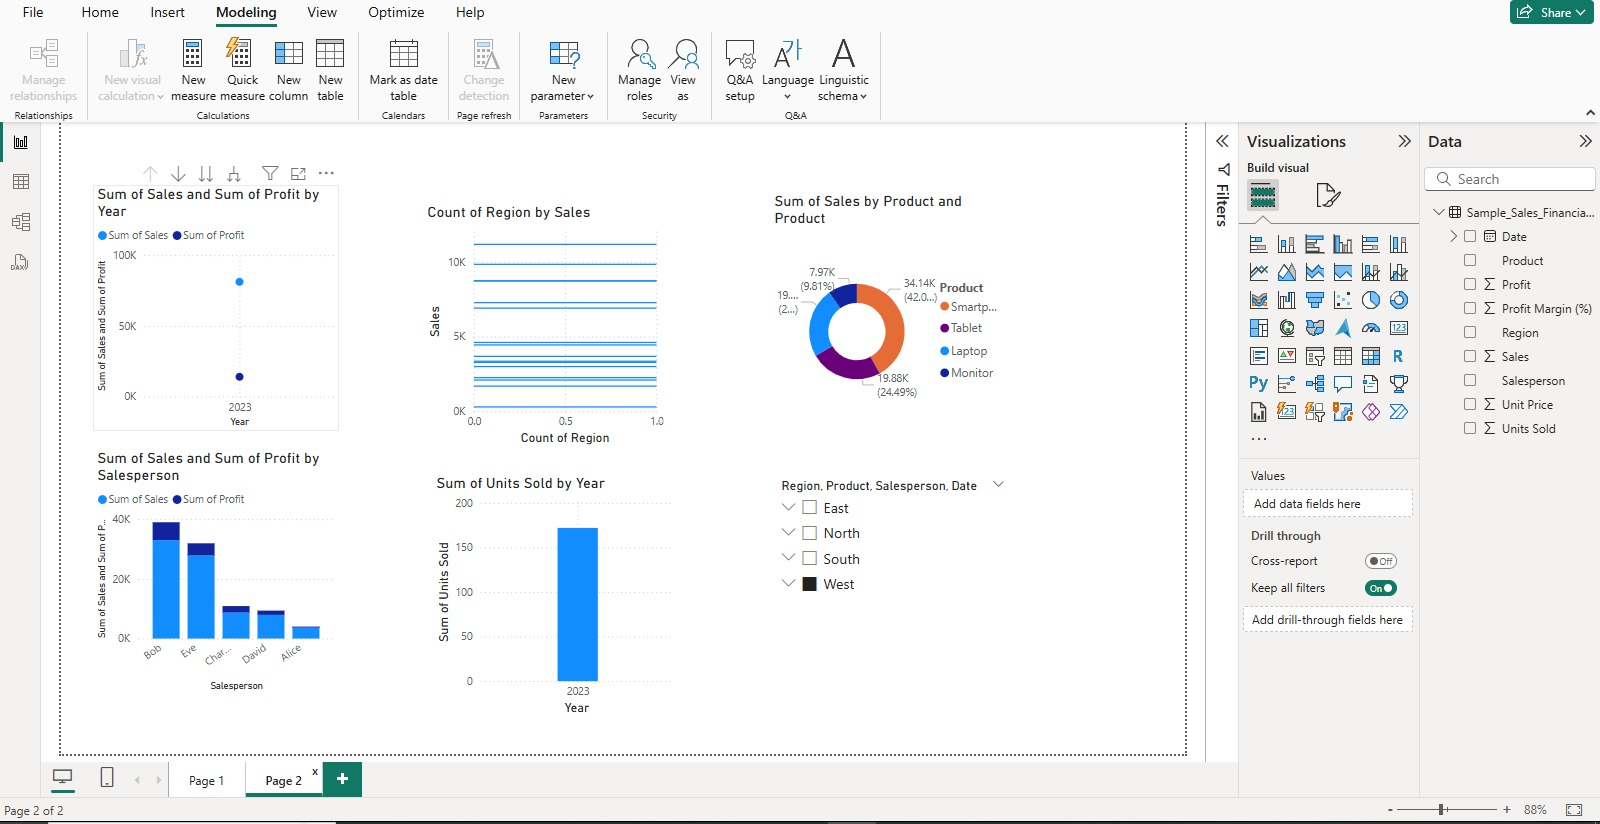

What the dashboard file says about the page in this screenshot:
{"tool":"powerbi","page":{"name":"Page 2","canvas":[1280,720],"ordinal":1},"visuals":[{"type":"lineChart","fields":{"Category":["Sample_Sales_Financial_Data.Date.Variation.Date Hierarchy.Year","Sample_Sales_Financial_Data.Date.Variation.Date Hierarchy.Quarter","Sample_Sales_Financial_Data.Date.Variation.Date Hierarchy.Month","Sample_Sales_Financial_Data.Date.Variation.Date Hierarchy.Day"],"Y":["Sum(Sample_Sales_Financial_Data.Sales)","Sum(Sample_Sales_Financial_Data.Profit)"]},"box":[36.5,71.8,280.3,280.3],"z":0},{"type":"barChart","fields":{"Y":["CountNonNull(Sample_Sales_Financial_Data.Region)"],"Category":["Sample_Sales_Financial_Data.Sales"]},"box":[412.4,92.3,279.1,280.3],"z":1},{"type":"columnChart","fields":{"Category":["Sample_Sales_Financial_Data.Salesperson"],"Y":["Sum(Sample_Sales_Financial_Data.Sales)","Sum(Sample_Sales_Financial_Data.Profit)"]},"box":[36,372,280,280],"z":2},{"type":"donutChart","fields":{"Category":["Sample_Sales_Financial_Data.Product"],"Series":["Sample_Sales_Financial_Data.Product"],"Y":["Sum(Sample_Sales_Financial_Data.Sales)"]},"box":[807.7,79.7,279.1,280.3],"z":4},{"type":"clusteredColumnChart","fields":{"Category":["Sample_Sales_Financial_Data.Date.Variation.Date Hierarchy.Year","Sample_Sales_Financial_Data.Date.Variation.Date Hierarchy.Quarter","Sample_Sales_Financial_Data.Date.Variation.Date Hierarchy.Month","Sample_Sales_Financial_Data.Date.Variation.Date Hierarchy.Day"],"Y":["Sum(Sample_Sales_Financial_Data.Units Sold)"]},"box":[422.7,401,279.1,279.1],"z":5},{"type":"slicer","fields":{"Values":["Sample_Sales_Financial_Data.Region","Sample_Sales_Financial_Data.Product","Sample_Sales_Financial_Data.Salesperson","Sample_Sales_Financial_Data.Date"]},"box":[808,401,279,279],"z":6}]}

Visuals, with their boxes on the page's 1280x720 design canvas (x1, y1, x2, y2). These are canvas units, not pixel positions in the 1600x824 screenshot, which may show the page scaled, cropped or inside an application window:
lineChart - Sample_Sales_Financial_Data.Date.Variation.Date Hierarchy.Year x Sample_Sales_Financial_Data.Date.Variation.Date Hierarchy.Quarter: [36,72,317,352]
barChart - CountNonNull(Sample_Sales_Financial_Data.Region) x Sample_Sales_Financial_Data.Sales: [412,92,692,373]
columnChart - Sample_Sales_Financial_Data.Salesperson x Sum(Sample_Sales_Financial_Data.Sales): [36,372,316,652]
donutChart - Sample_Sales_Financial_Data.Product x Sample_Sales_Financial_Data.Product: [808,80,1087,360]
clusteredColumnChart - Sample_Sales_Financial_Data.Date.Variation.Date Hierarchy.Year x Sample_Sales_Financial_Data.Date.Variation.Date Hierarchy.Quarter: [423,401,702,680]
slicer - Sample_Sales_Financial_Data.Region x Sample_Sales_Financial_Data.Product: [808,401,1087,680]
